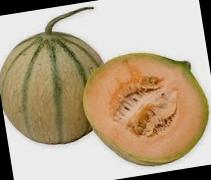Melon Ripe: (75, 41, 211, 177)
